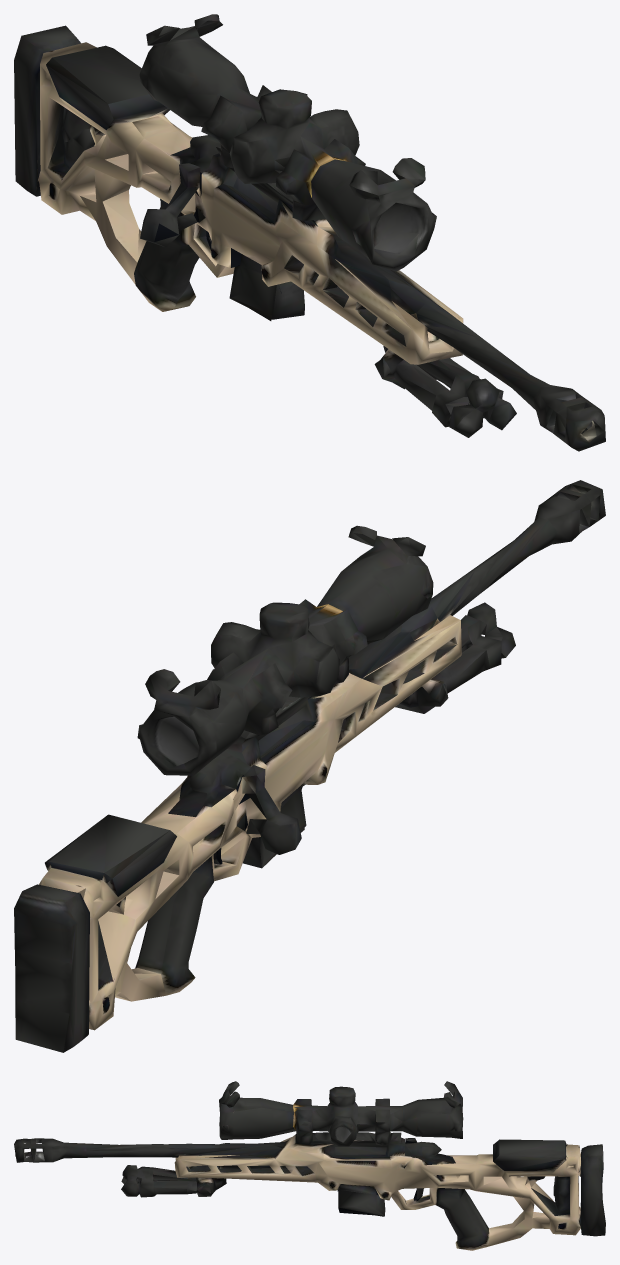
File: wpn_sr_longbow_tp.glb
The picture shows the model from 3 angles, top to bottom: view 1: azimuth 30°, elevation 25°; view 2: azimuth 150°, elevation 25°; view 3: azimuth 270°, elevation 25°; orthographic projection. The views are drawn at different scales.
Visible parts, largest first — view 1: body, mag, bolt; view 2: body, bolt, mag; view 3: body, mag.
Boxes of the visible parts, x1,y1,x2,y2 form: body: (14,14,605,451); mag: (229,254,304,319); bolt: (140,163,202,247); body: (14,480,605,1052); bolt: (233,765,301,854); mag: (243,783,306,868); body: (14,1081,605,1250); mag: (338,1184,385,1215).
Bounding box in the file's own units: 0.1747 × 0.3495 × 1.18.
1 material, 1 textured.
